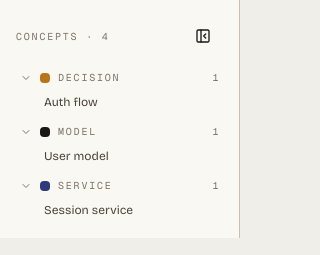
Scenario: GraphSidebar › collapsible categories (PM #25 round 2 P2) › toggles aria-expanded on the category caret button
expect the button "User model" is shown: met, box x1=36 y1=145 x2=223 y2=168
// Click collapses.
Click the button "model 1" at [120, 132], box x1=16 y1=122 x2=223 y2=141
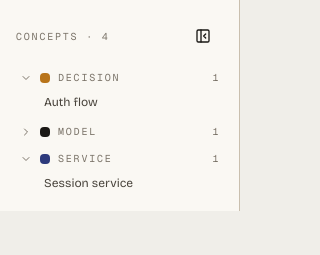
expect the button "model 1" is collapsed: met, box x1=16 y1=122 x2=223 y2=141
expect the button "User model" is gone: met
